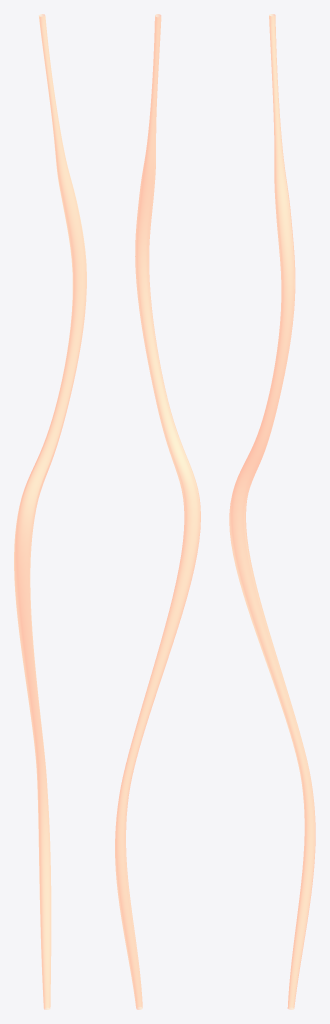
The model's file is strand_c_danger.glb.
The picture shows the model from 3 angles, left to right: view 1: azimuth 30°, elevation 25°; view 2: azimuth 150°, elevation 25°; view 3: azimuth 330°, elevation 25°; orthographic projection.
Bounding box in the file's own units: 0.5659 × 8 × 0.5143.
